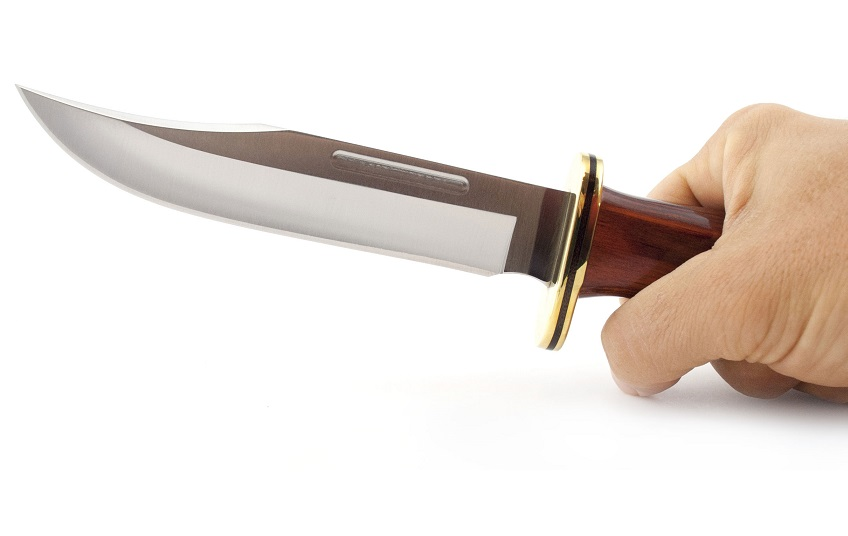knife: (8, 76, 766, 407)
